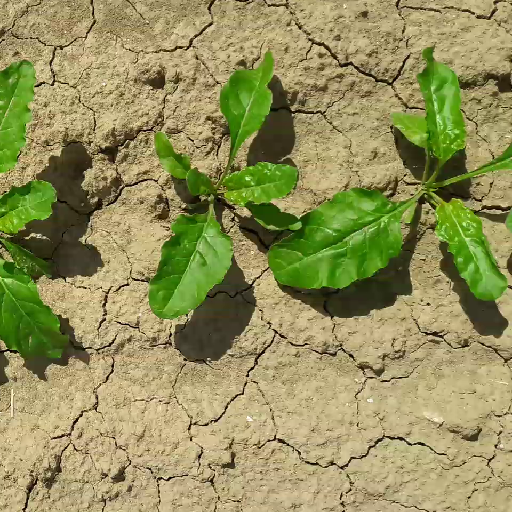sugarbeet: (265, 37, 512, 300), (122, 53, 305, 323), (1, 58, 71, 363)
